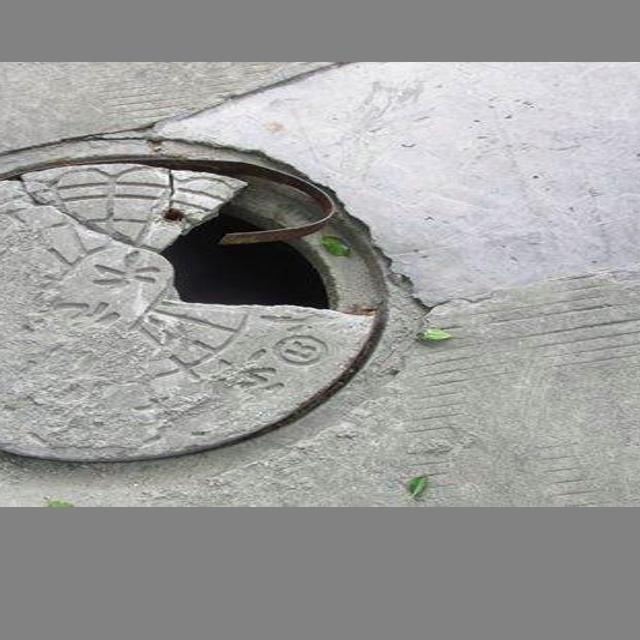broke: (0, 120, 448, 495)
